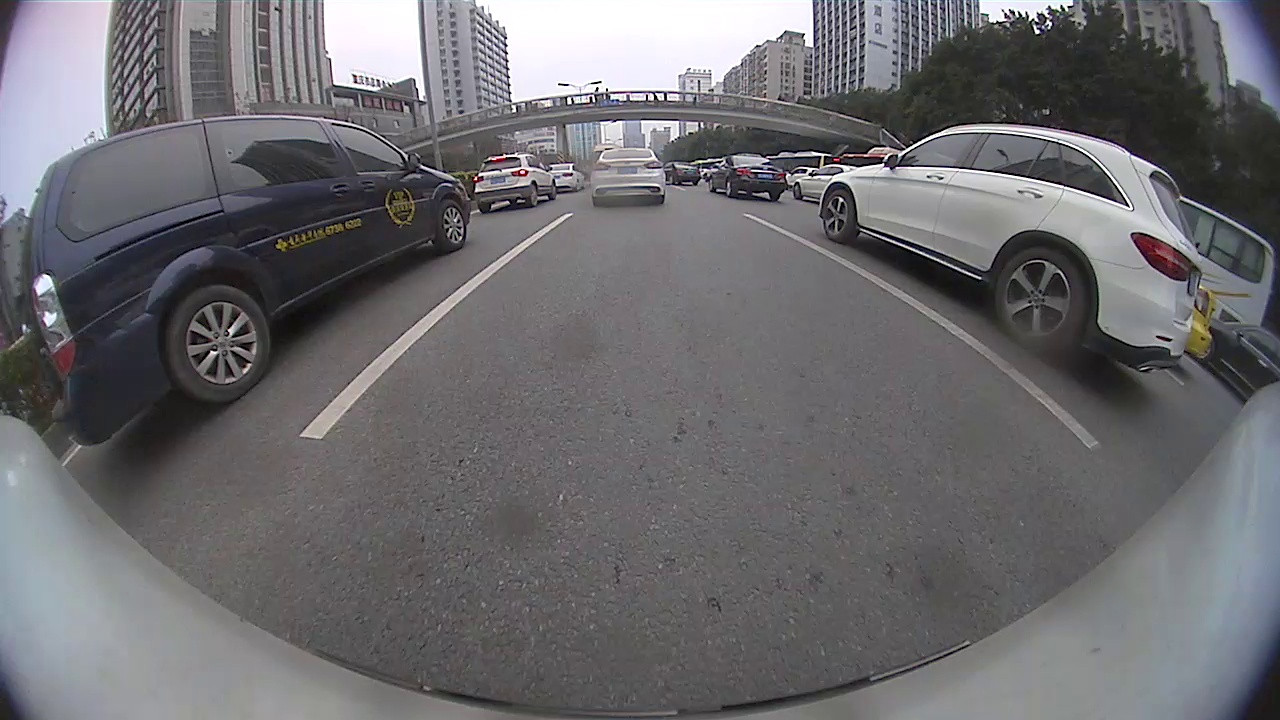bus: (1174, 192, 1279, 327)
car: (31, 111, 474, 448), (820, 121, 1202, 375), (1205, 319, 1277, 408), (588, 148, 667, 206), (480, 155, 557, 208), (706, 153, 788, 198), (1182, 287, 1216, 359)
front: (821, 186, 857, 241), (432, 199, 468, 252)
rear: (167, 285, 274, 405), (993, 246, 1088, 354), (528, 180, 539, 206), (725, 176, 734, 197)
